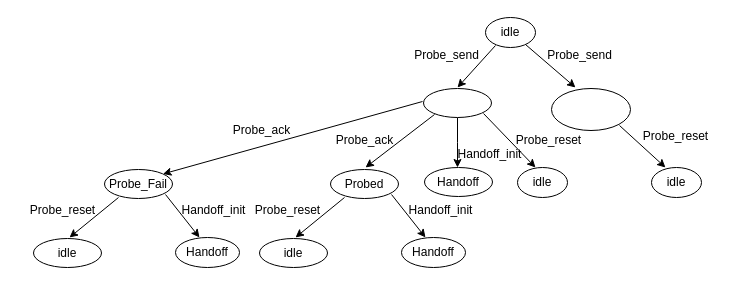
Image size: 737x285. Some labels were removed from this diagram. The shapes that lost their labels are listed below. From the top down, each one's centre as x and y in pixels, then its label:
point 457,103: Probe_sent
point 590,109: disconnected
